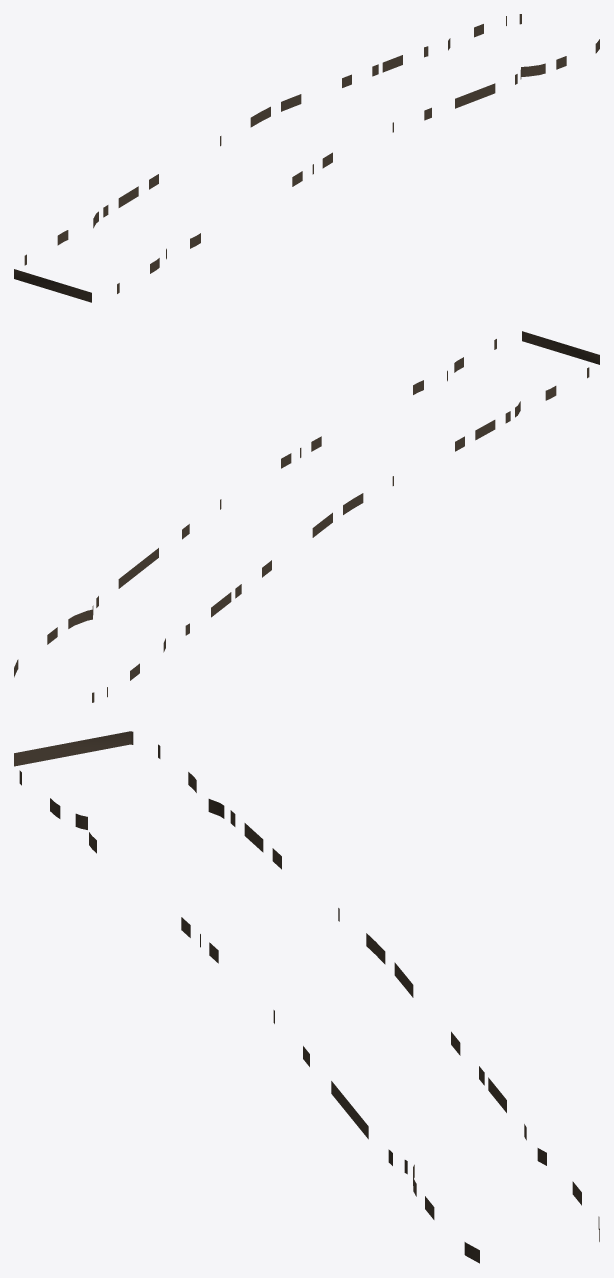
3 renders of one model, top to bottom at view 1: azimuth 30°, elevation 25°; view 2: azimuth 210°, elevation 25°; view 3: azimuth 270°, elevation 25°, orthographic. The views are drawn at different scales.
Parts seen in each view (by area): view 1: prototype; view 2: prototype; view 3: prototype.
Part boxes in pixels (x1=…): prototype: x1=14, y1=14, x2=599, y2=302; prototype: x1=14, y1=331, x2=599, y2=702; prototype: x1=14, y1=731, x2=599, y2=1263.
Bounding box in the file's own units: 23.93 × 1.86 × 12.76.
